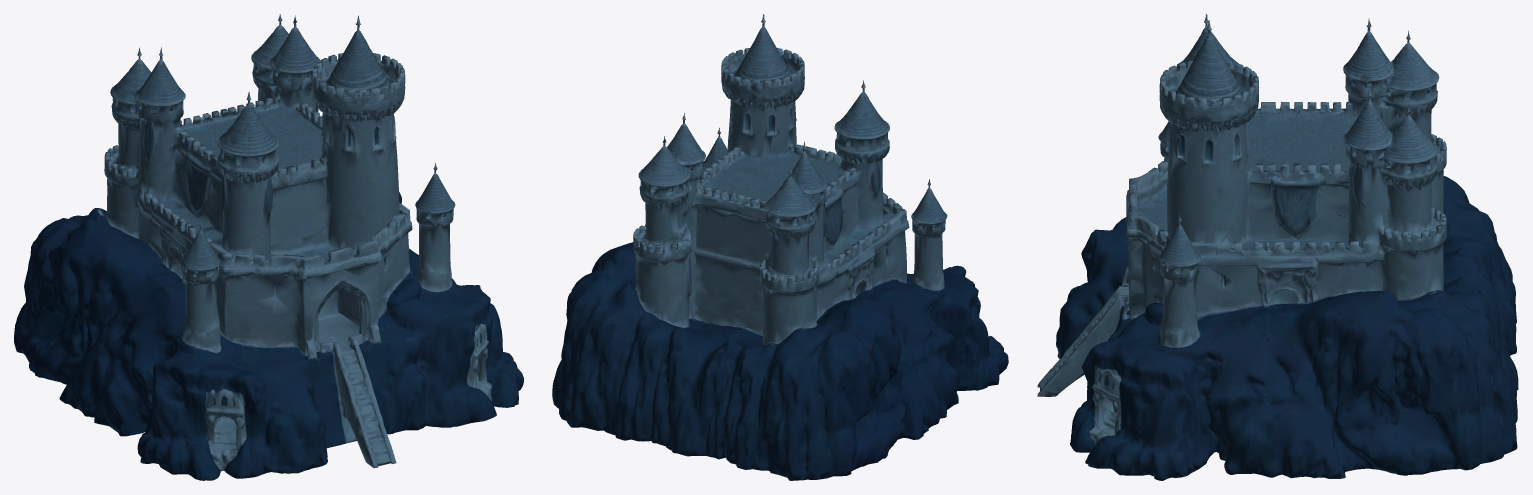
Rendered from castle.glb.
The picture shows the model from 3 angles, left to right: view 1: azimuth 30°, elevation 25°; view 2: azimuth 150°, elevation 25°; view 3: azimuth 270°, elevation 25°; orthographic projection. The views are drawn at different scales.
Bounding box in the file's own units: 1.79 × 1.74 × 1.9.
Materials: 1 (1 with a texture image).
